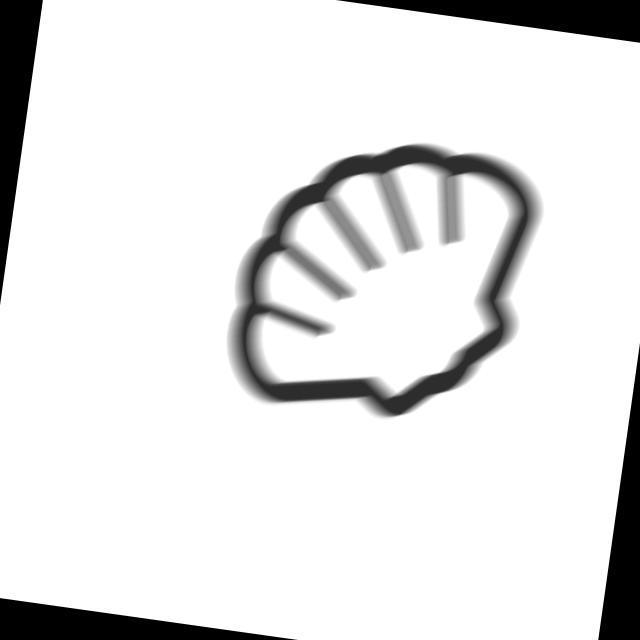shell: (211, 112, 559, 446)
